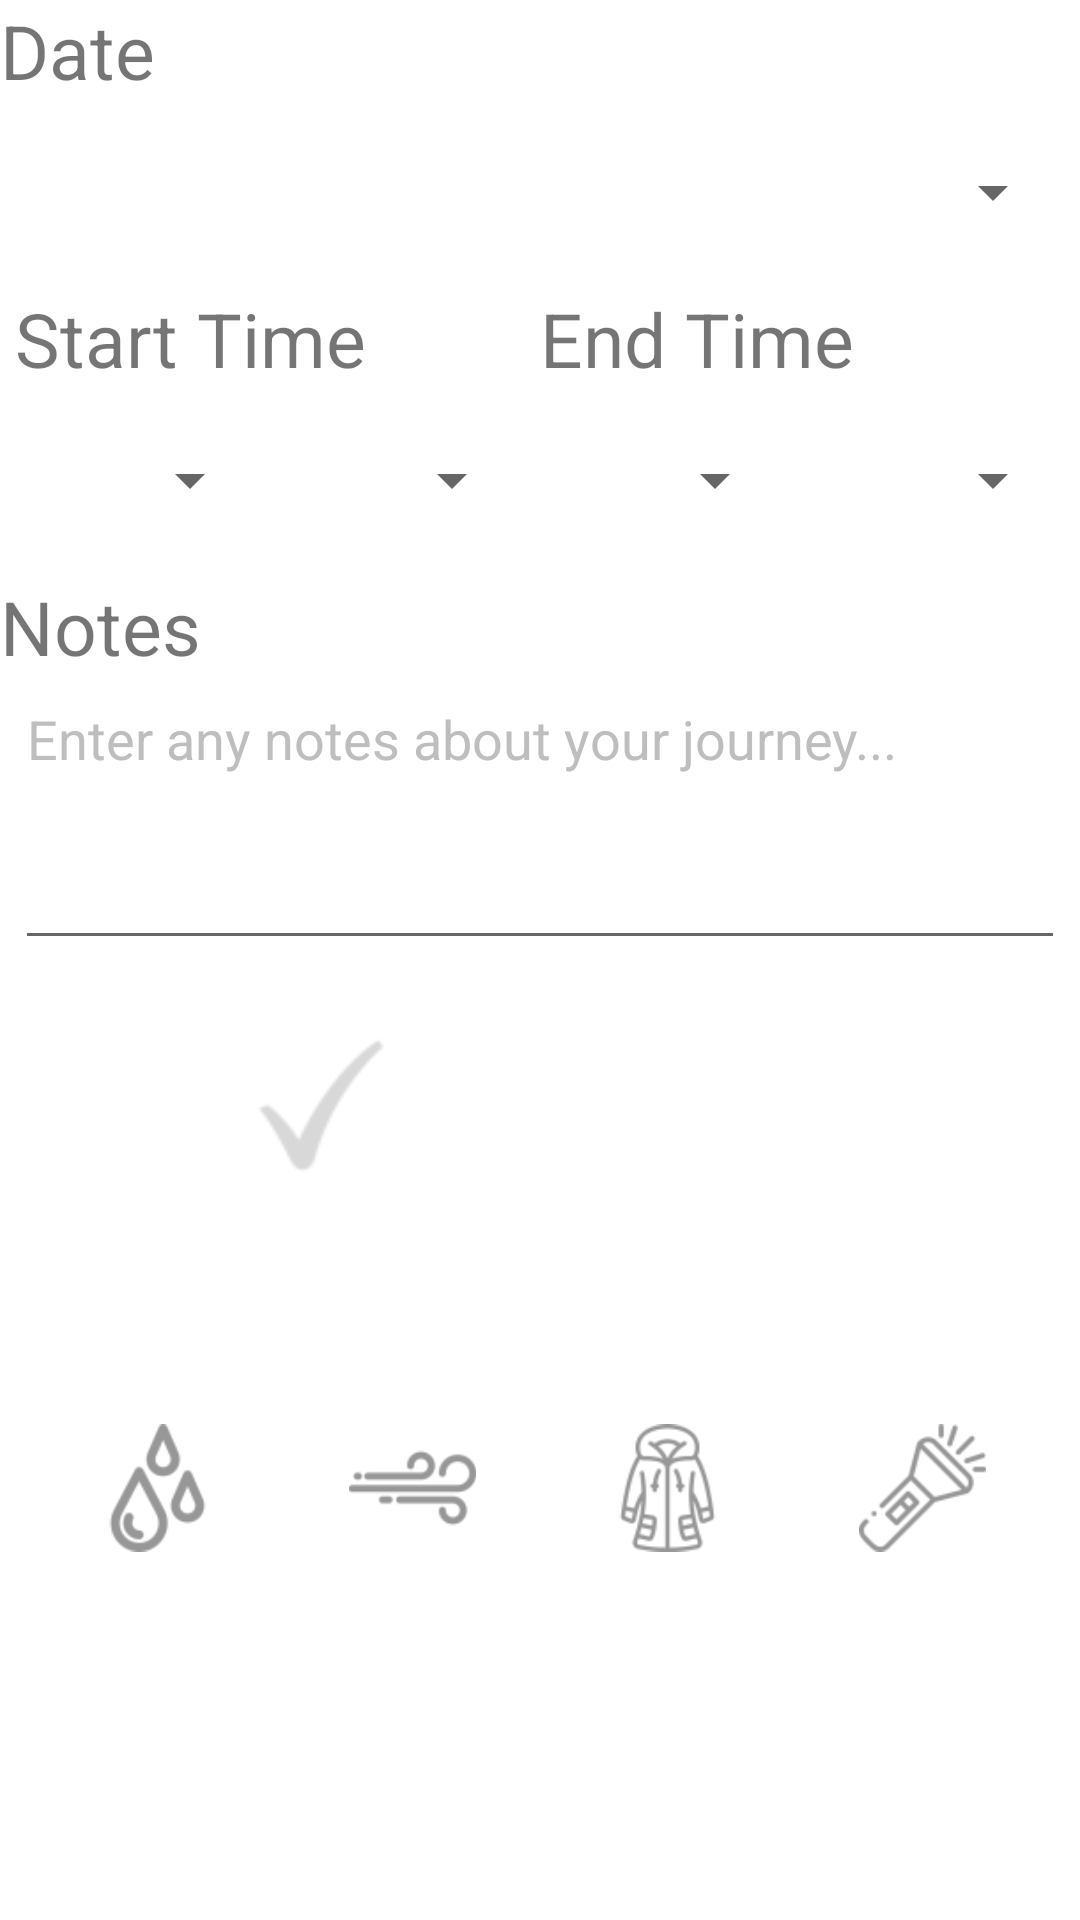

Named icons in this screenshot (1080px×1920px) and their centers, point (x, y):
tick: point (321, 1105)
